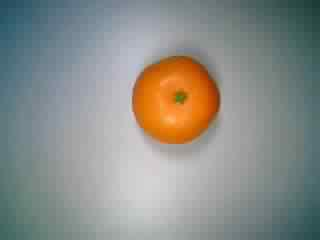orange: (126, 46, 221, 148)
